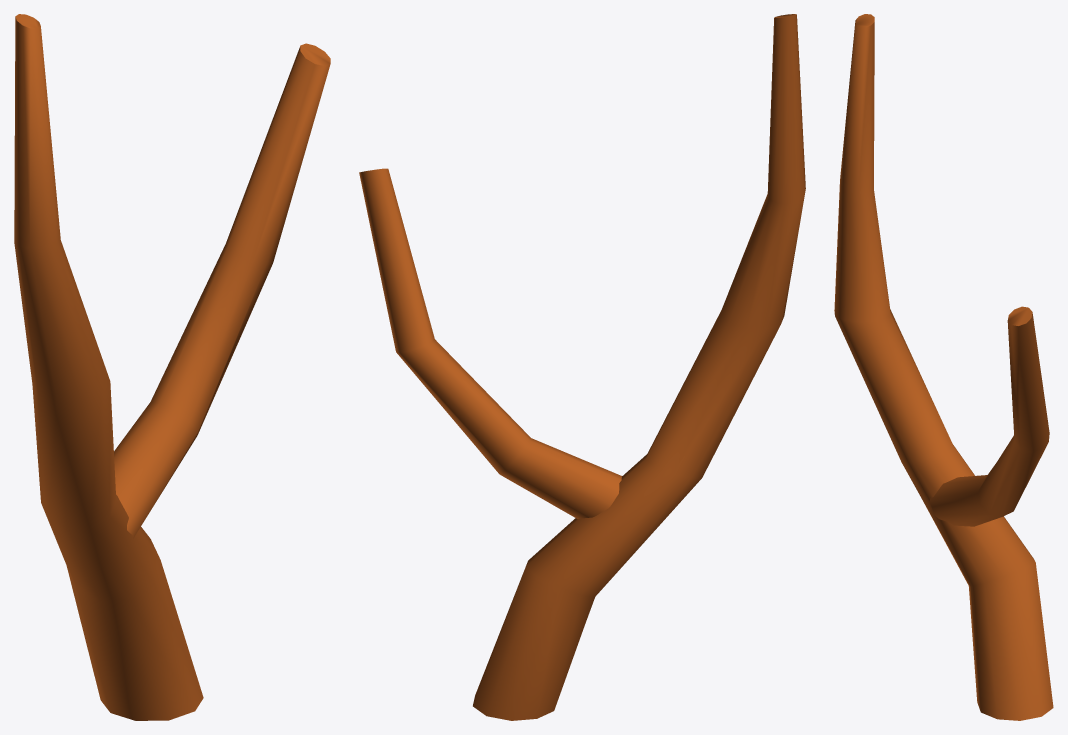
Rendered from TreeTrunk_11.fbx.
3 renders of one model, left to right at view 1: azimuth 30°, elevation 25°; view 2: azimuth 150°, elevation 25°; view 3: azimuth 270°, elevation 25°, orthographic. The views are drawn at different scales.
Visible parts, largest first — view 1: TreeTrunk_11; view 2: TreeTrunk_11; view 3: TreeTrunk_11.
Boxes of the visible parts, box(x1,y1,x2,y2) form: TreeTrunk_11: box(14, 14, 330, 720); TreeTrunk_11: box(359, 14, 805, 720); TreeTrunk_11: box(834, 14, 1053, 720).
Bounding box in the file's own units: 137 × 251 × 82.3.
